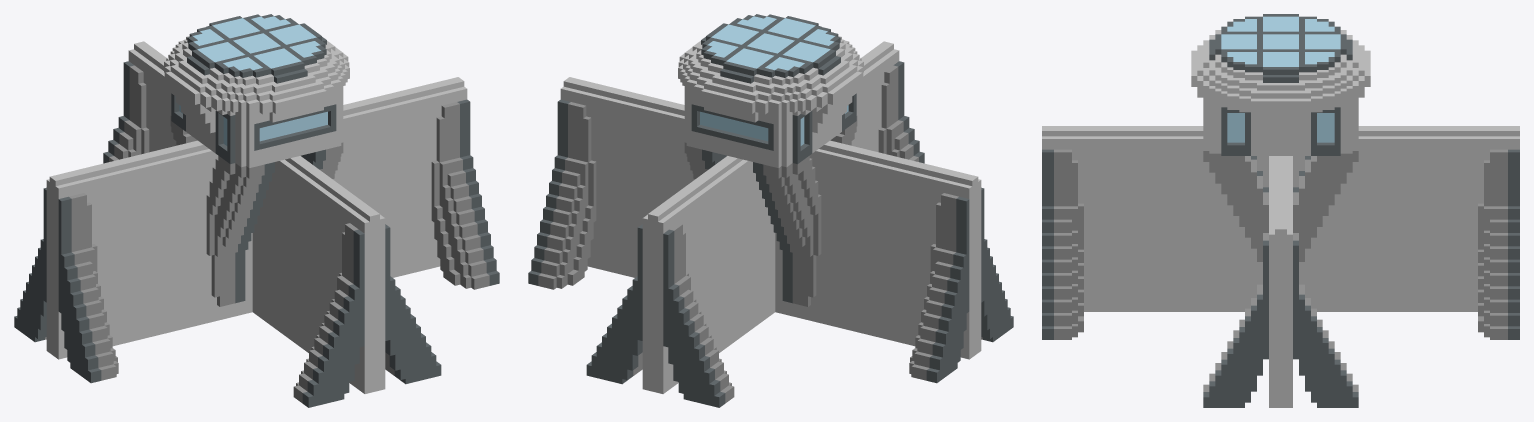
Rendered from wall4_cross.obj.
3 renders of one model, left to right at view 1: azimuth 30°, elevation 25°; view 2: azimuth 150°, elevation 25°; view 3: azimuth 270°, elevation 25°, orthographic.
Size of the model in its own units: 8 by 4.9 by 8.
Materials: 1 (1 with a texture image).
